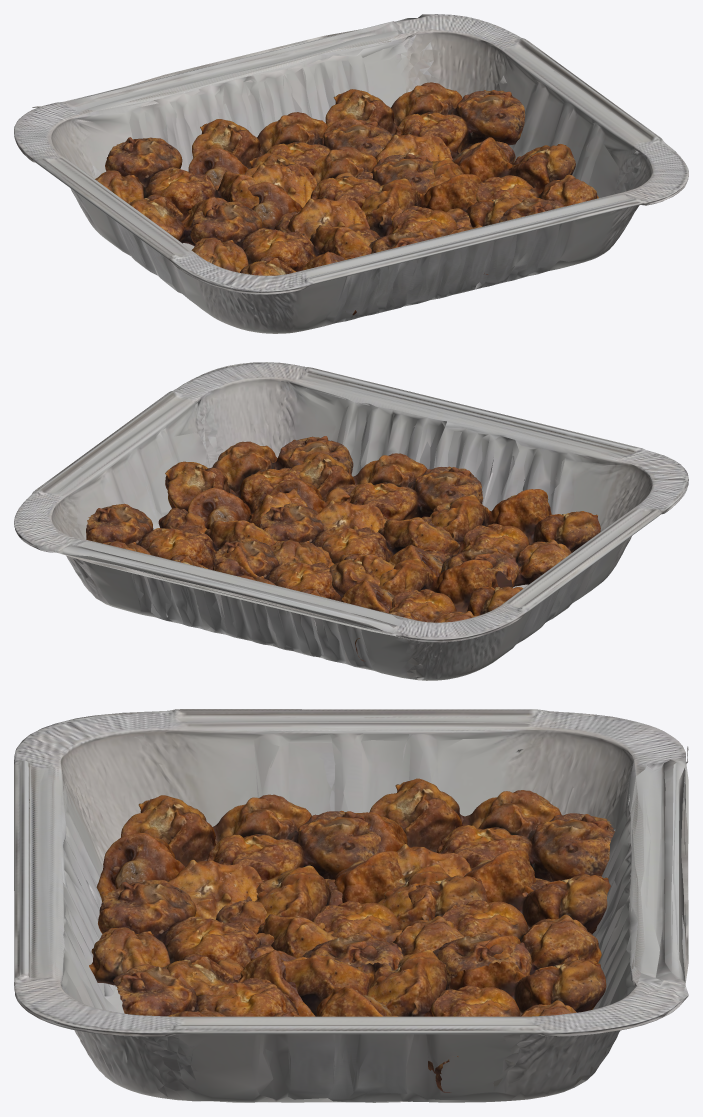
Rendered from gharch.chini.kg.glb.
The picture shows the model from 3 angles, top to bottom: view 1: azimuth 30°, elevation 25°; view 2: azimuth 150°, elevation 25°; view 3: azimuth 270°, elevation 25°; orthographic projection. The views are drawn at different scales.
Visible parts, largest first — view 1: node_0, 3DModel.004 (×7); view 2: node_0, 3DModel.004 (×7); view 3: node_0, 3DModel.004 (×7).
Boxes of the visible parts, x1,y1,x2,y2 form: node_0: [14, 14, 688, 333]; 3DModel.004 (×7): [95, 82, 598, 315]; node_0: [14, 362, 688, 680]; 3DModel.004 (×7): [86, 436, 600, 661]; node_0: [14, 709, 688, 1102]; 3DModel.004 (×7): [89, 778, 614, 1092].
Bounding box in the file's own units: 0.3177 × 0.0517 × 0.2808.
Materials: 2 (2 with a texture image).
